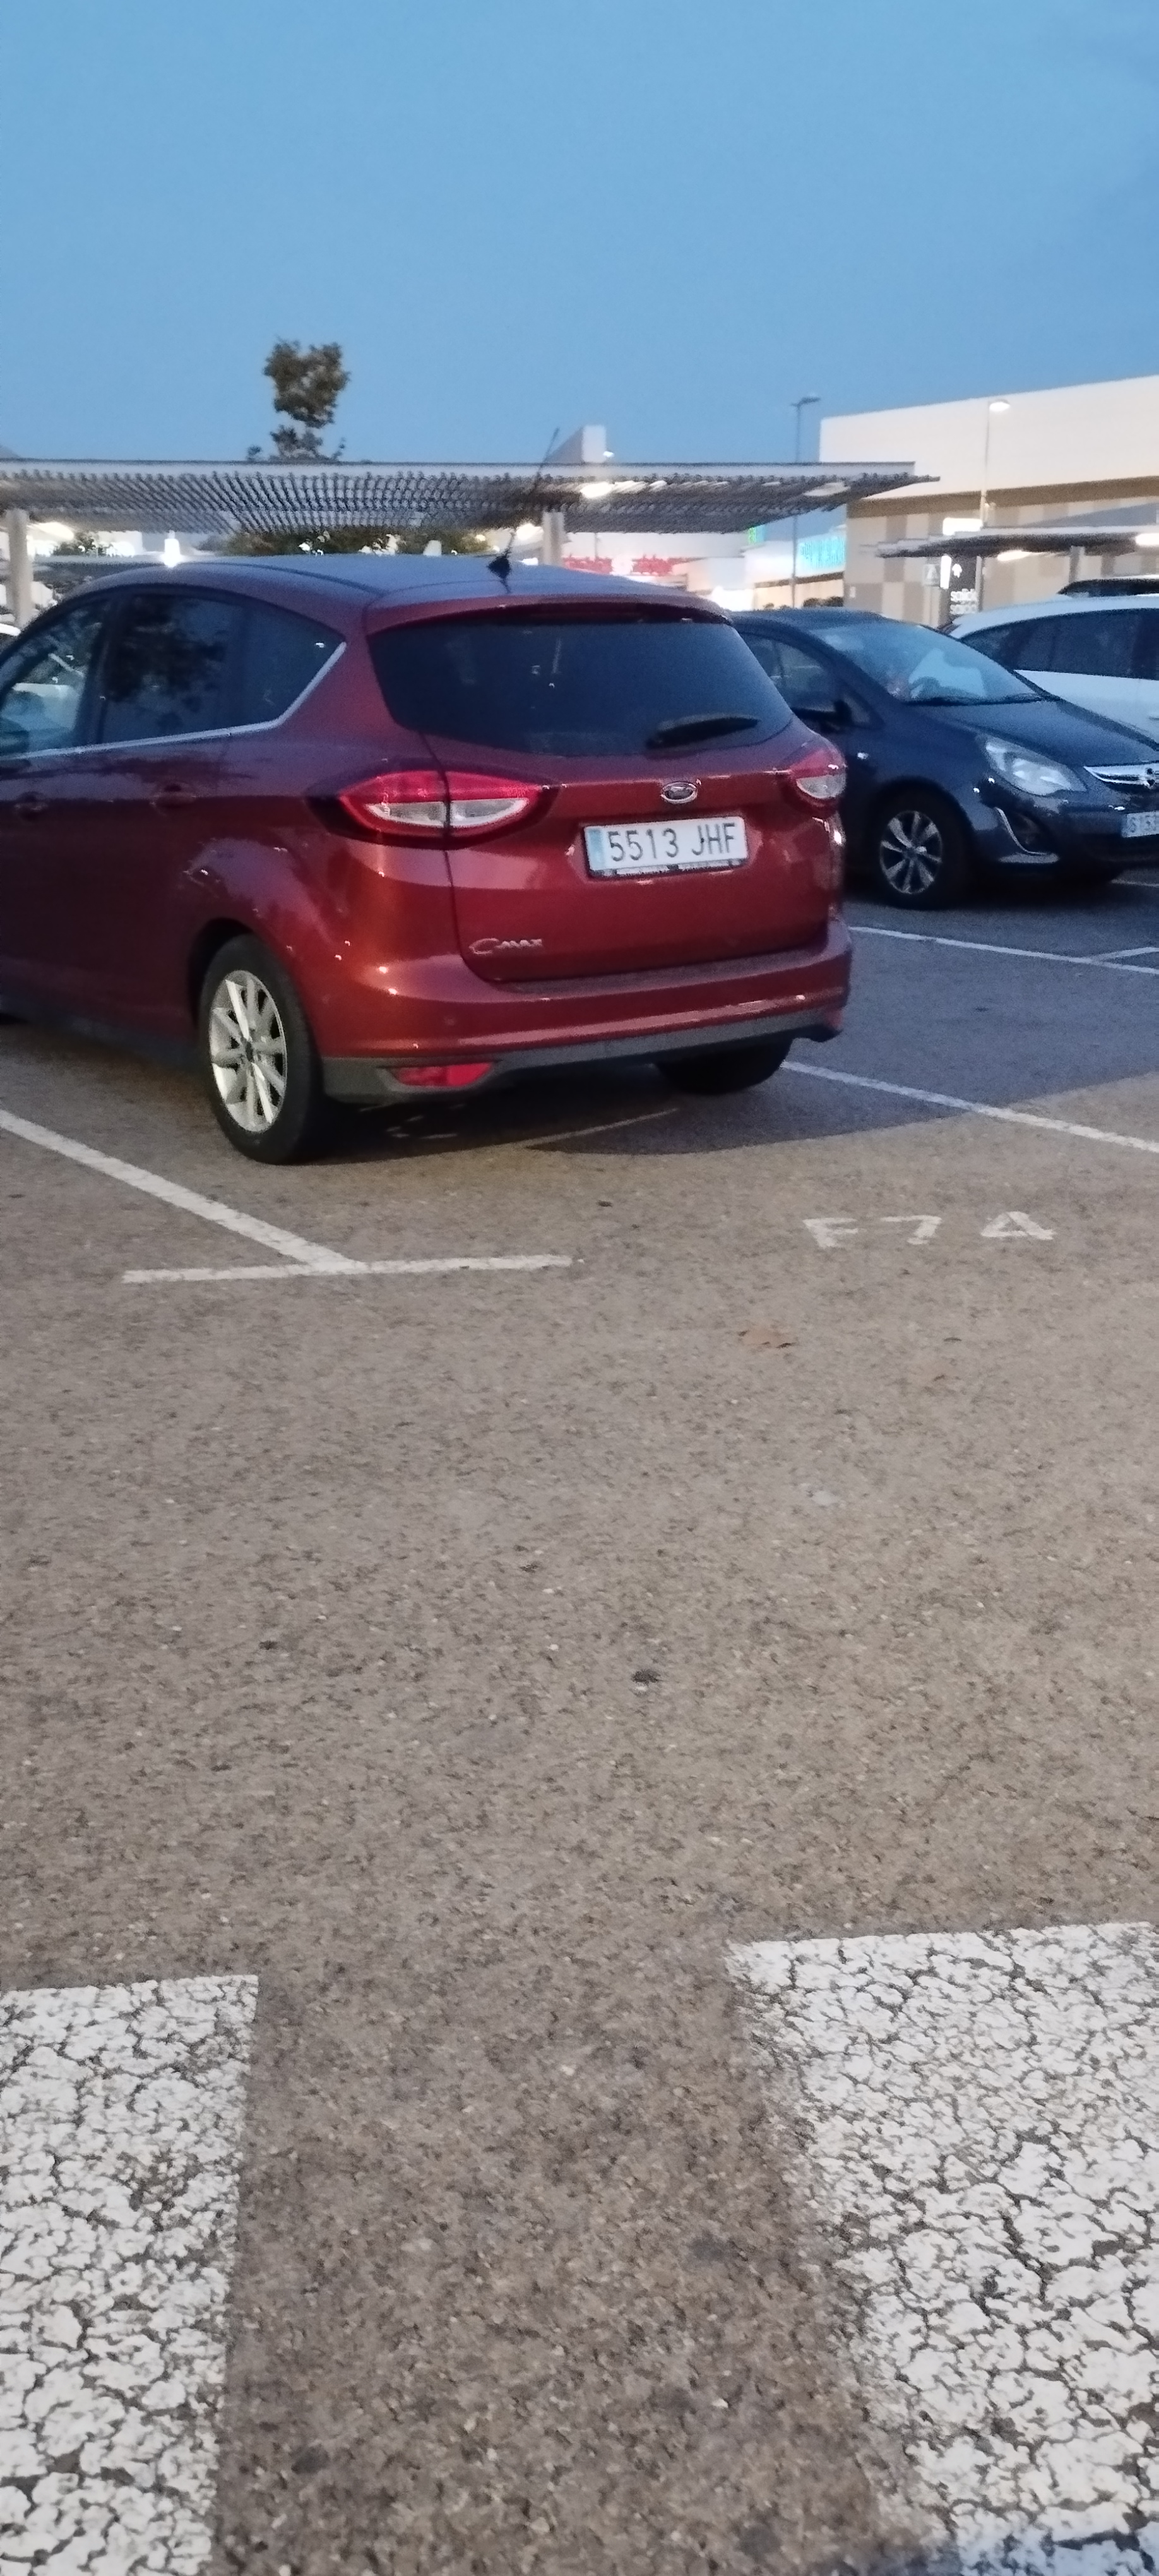Car: (0, 561, 869, 1147)
Plate: (578, 819, 747, 866)
